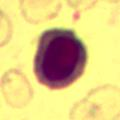lymphocyte: (32, 25, 89, 94)
